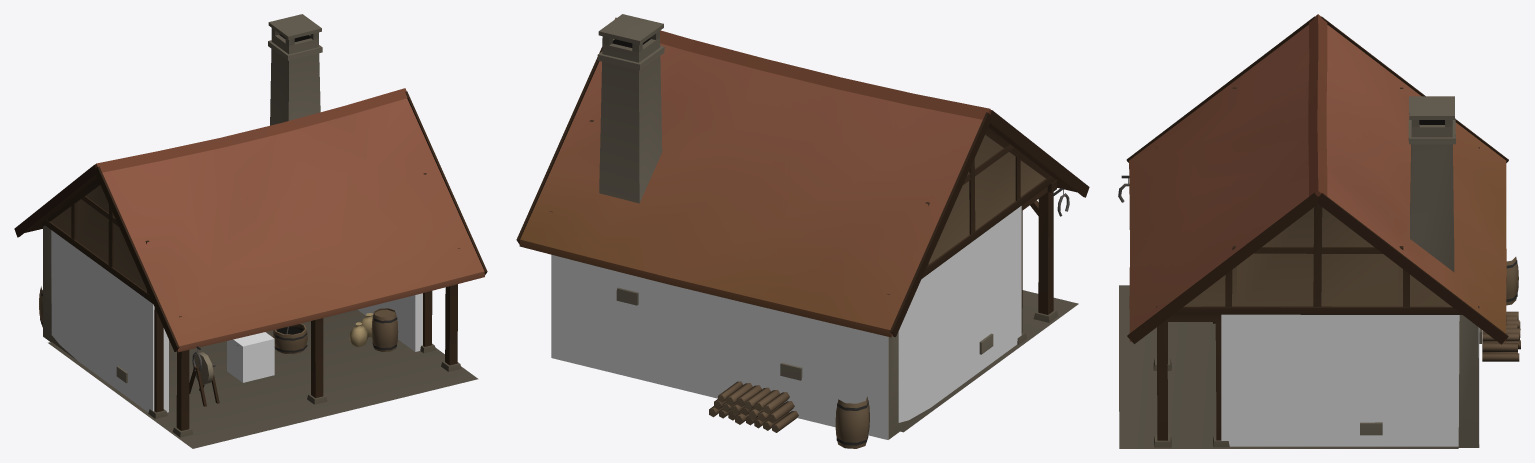
Rendered from forge.glb.
3 renders of one model, left to right at view 1: azimuth 30°, elevation 25°; view 2: azimuth 150°, elevation 25°; view 3: azimuth 270°, elevation 25°, orthographic. The views are drawn at different scales.
Parts seen in each view (by area): view 1: forge, COL_left, COL_anvil, COL_right; view 2: forge, COL_back, COL_left; view 3: forge, COL_right.
Boxes of the visible parts, x1=… form: forge: x1=14, y1=14, x2=487, y2=448; COL_left: x1=51, y1=230, x2=168, y2=412; COL_anvil: x1=227, y1=332, x2=274, y2=382; COL_right: x1=357, y1=293, x2=422, y2=351; forge: x1=516, y1=14, x2=1089, y2=448; COL_back: x1=551, y1=254, x2=888, y2=439; COL_left: x1=898, y1=206, x2=1021, y2=422; forge: x1=1118, y1=14, x2=1520, y2=448; COL_right: x1=1221, y1=314, x2=1458, y2=446.
Bounding box in the file's own units: 7.81 × 6.49 × 7.49.
